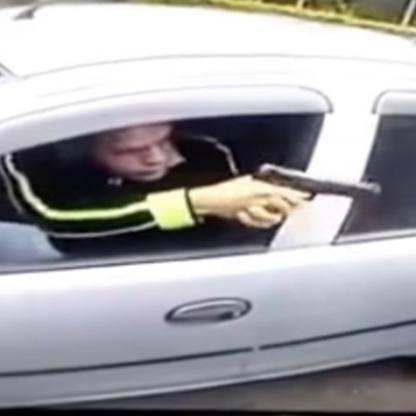criminal: (0, 119, 388, 258)
weapon: (252, 160, 387, 218)
